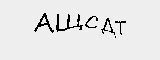А: (34, 9, 54, 37)
Д: (99, 16, 119, 38)
С: (85, 12, 99, 32)
Т: (114, 19, 130, 39)
Щ: (55, 13, 83, 34)
